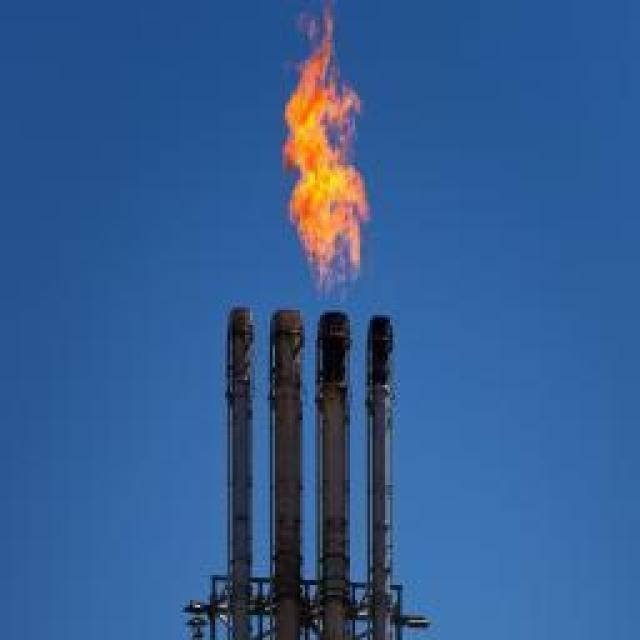fire: (282, 13, 370, 302)
